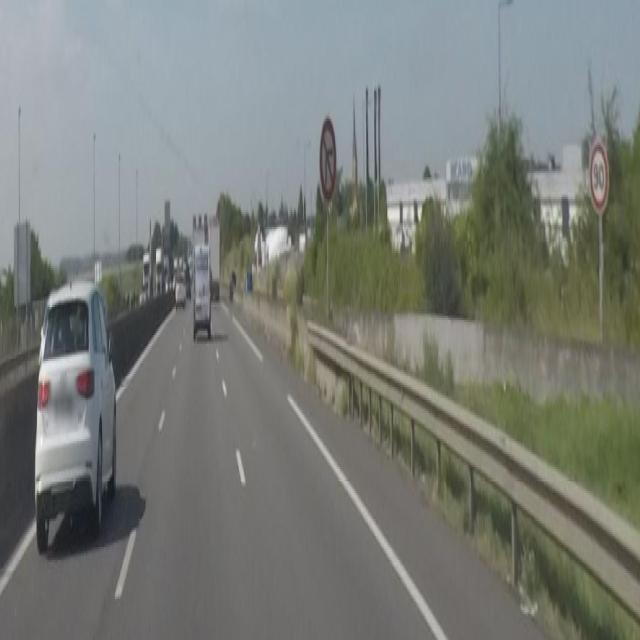speed_90: (590, 140, 608, 211)
